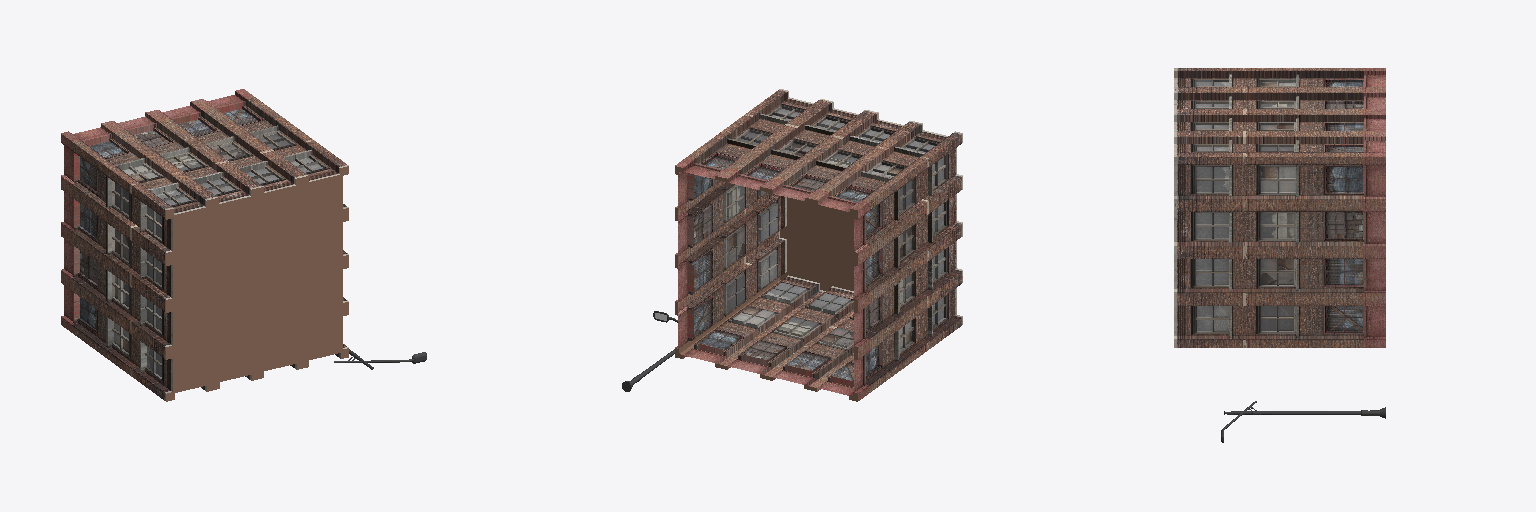
3 views of the same model, side by side, from view 1: azimuth 30°, elevation 25°; view 2: azimuth 150°, elevation 25°; view 3: azimuth 270°, elevation 25° (orthographic).
Parts seen in each view (by area): view 1: Object_4, Object_5; view 2: Object_4, Object_5; view 3: Object_4, Object_5, Object_9.
Part boxes in pixels (bbox=[...]): Object_4: bbox=[61, 89, 348, 401]; Object_5: bbox=[80, 109, 322, 376]; Object_4: bbox=[675, 89, 962, 401]; Object_5: bbox=[694, 108, 943, 380]; Object_4: bbox=[1174, 68, 1385, 347]; Object_5: bbox=[1196, 82, 1363, 330]; Object_9: bbox=[1221, 401, 1385, 442].
Bounding box in the file's own units: 12.47 × 9.94 × 8.
Materials: 4 (1 with a texture image).